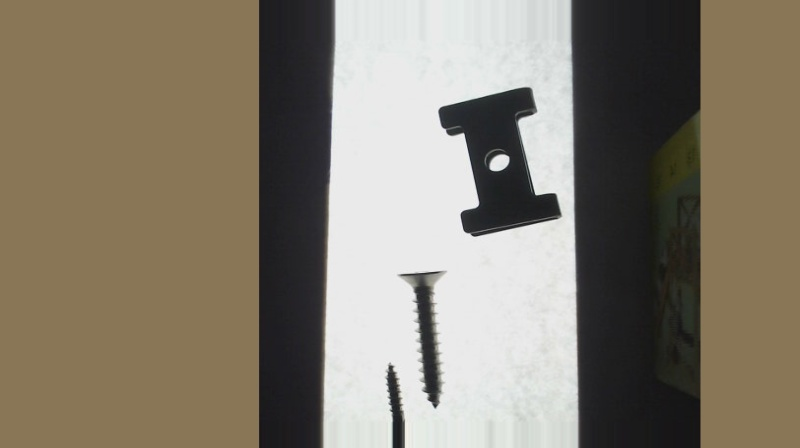O001: (373, 360, 443, 447)
O002: (436, 85, 563, 238)
S001: (394, 268, 454, 413)
